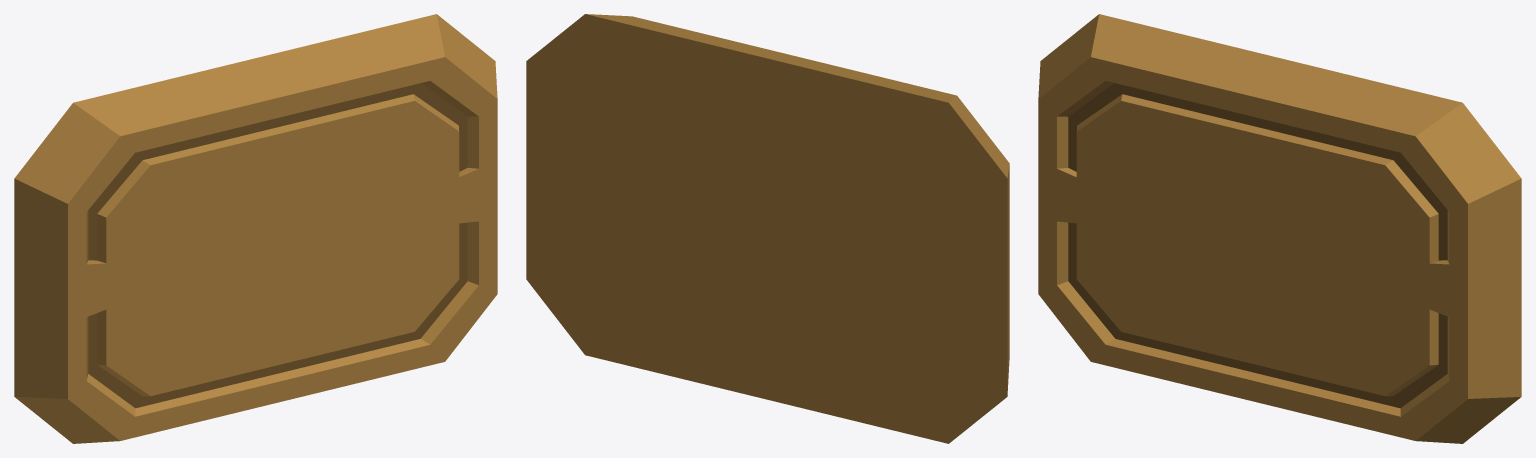
The model's file is details_basic_4.glb.
The picture shows the model from 3 angles, left to right: view 1: azimuth 30°, elevation 25°; view 2: azimuth 150°, elevation 25°; view 3: azimuth 330°, elevation 25°; orthographic projection.
Parts seen in each view (by area): view 1: Details_Basic_4; view 2: Details_Basic_4; view 3: Details_Basic_4.
Boxes of the visible parts, x1,y1,x2,y2 form: Details_Basic_4: (14,14,497,443); Details_Basic_4: (526,14,1009,443); Details_Basic_4: (1038,14,1521,443).
Size of the model in its own units: 0.6795 by 0.4605 by 0.068.
